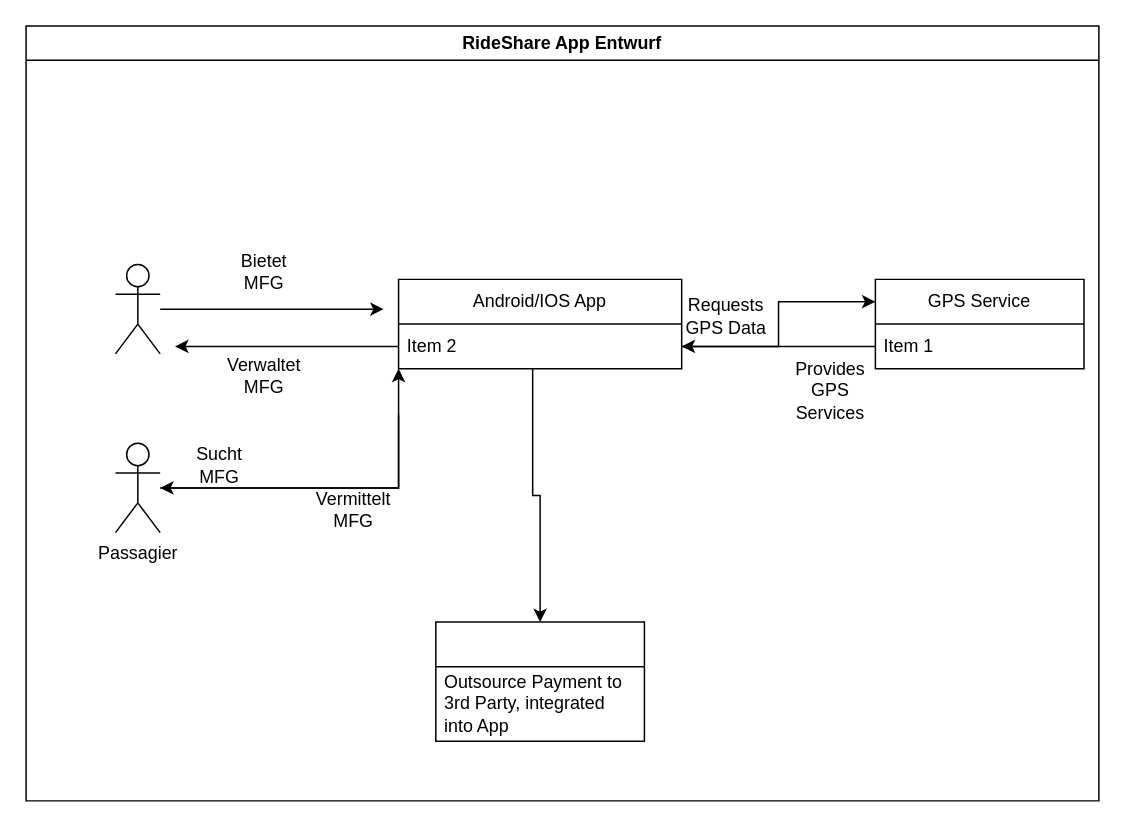
Image size: 1125x827. Some labels were removed from this diagram. Each missing label, with the box of its shape:
Fahrer: (114, 263, 160, 354)
Payment Processor: (434, 621, 644, 741)
